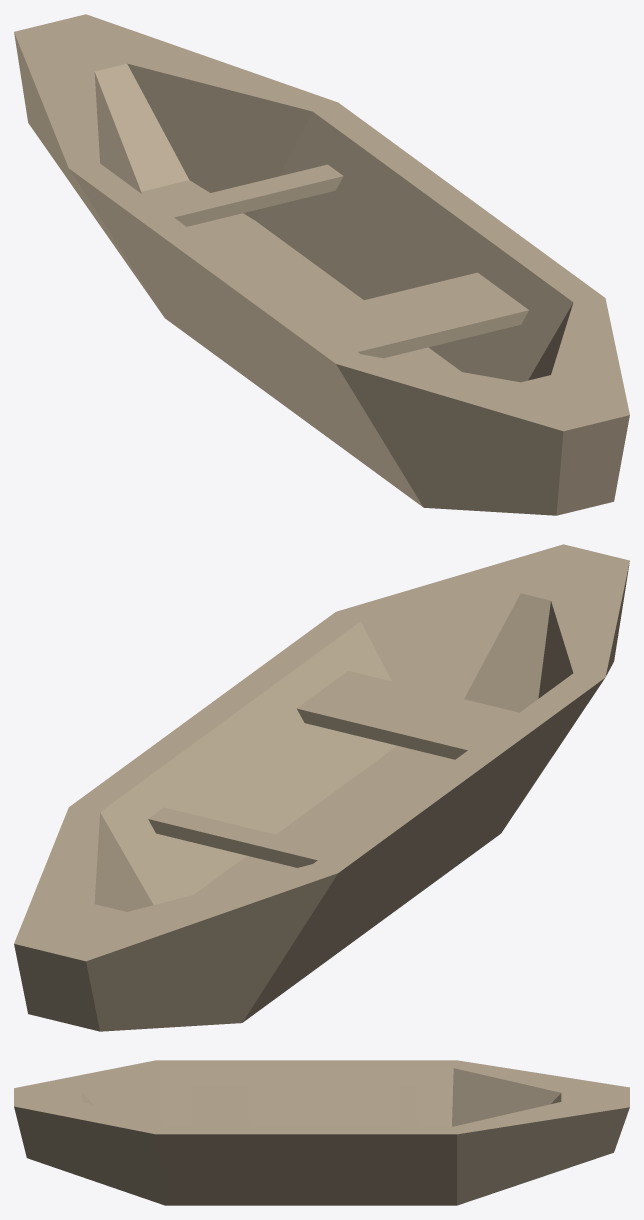
Rendered from boat2 (1).fbx.
3 renders of one model, top to bottom at view 1: azimuth 30°, elevation 25°; view 2: azimuth 150°, elevation 25°; view 3: azimuth 270°, elevation 25°, orthographic. The views are drawn at different scales.
Parts seen in each view (by area): view 1: Cube, 立方体.001, 立方体; view 2: Cube, 立方体.001, 立方体; view 3: Cube, 立方体.001, 立方体.
Boxes of the visible parts, <box> form: Cube: <box>14,14,629,515</box>; 立方体.001: <box>306,272,528,358</box>; 立方体: <box>158,164,343,226</box>; Cube: <box>14,544,629,1031</box>; 立方体.001: <box>296,671,518,759</box>; 立方体: <box>148,807,333,867</box>; Cube: <box>14,1060,629,1205</box>; 立方体.001: <box>192,1086,249,1126</box>; 立方体: <box>400,1087,418,1126</box>.
Bounding box in the file's own units: 290 × 178 × 1018.
